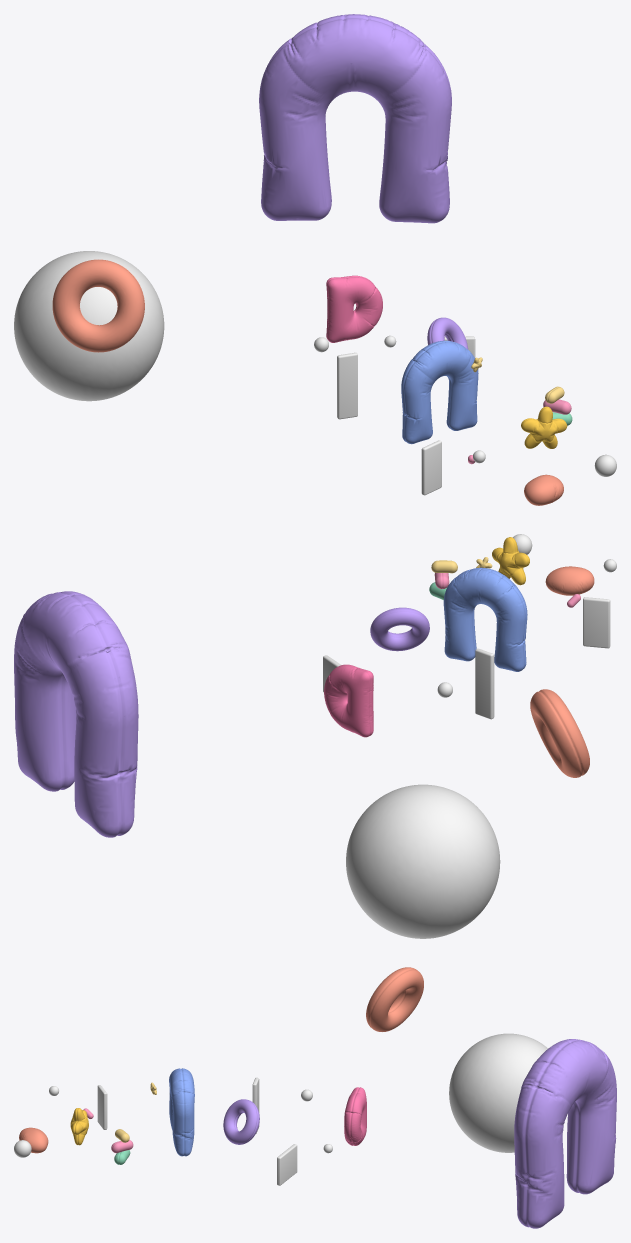
File: garden.glb
3 views of the same model, one above another, from view 1: azimuth 30°, elevation 25°; view 2: azimuth 150°, elevation 25°; view 3: azimuth 270°, elevation 25° (orthographic). The views are drawn at different scales.
Visible parts, largest first — view 1: far_arch, chrome_d, far_torus, arch, letter_d, glass_b, star, glass_a, blob, torus; view 2: far_arch, chrome_d, arch, far_torus, letter_d, torus, glass_a, glass_b, blob, star; view 3: far_arch, chrome_d, far_torus, arch, torus, letter_d, glass_c, blob, star, glass_a.
Part boxes in pixels (x1,y1,x2,y2): far_arch: [259, 14, 451, 223]; chrome_d: [14, 251, 164, 401]; far_torus: [52, 259, 144, 352]; arch: [401, 340, 478, 444]; letter_d: [326, 275, 382, 342]; glass_b: [337, 352, 357, 419]; star: [521, 406, 567, 448]; glass_a: [421, 440, 441, 495]; blob: [524, 474, 563, 505]; torus: [427, 317, 468, 349]; far_arch: [14, 591, 138, 837]; chrome_d: [346, 784, 500, 938]; arch: [443, 567, 527, 671]; far_torus: [530, 689, 589, 777]; letter_d: [324, 664, 373, 737]; torus: [370, 607, 429, 651]; glass_a: [583, 597, 610, 648]; glass_b: [475, 648, 494, 719]; blob: [545, 566, 594, 595]; star: [492, 537, 529, 585]; far_arch: [514, 1039, 616, 1228]; chrome_d: [449, 1033, 547, 1152]; far_torus: [366, 967, 423, 1031]; arch: [169, 1068, 194, 1156]; torus: [223, 1099, 259, 1144]; letter_d: [344, 1087, 366, 1145]; glass_c: [277, 1144, 297, 1185]; blob: [19, 1127, 48, 1153]; star: [70, 1108, 88, 1145]; glass_a: [97, 1085, 107, 1129].
Bounding box in the file's own units: 30.56 × 17.08 × 42.44.
